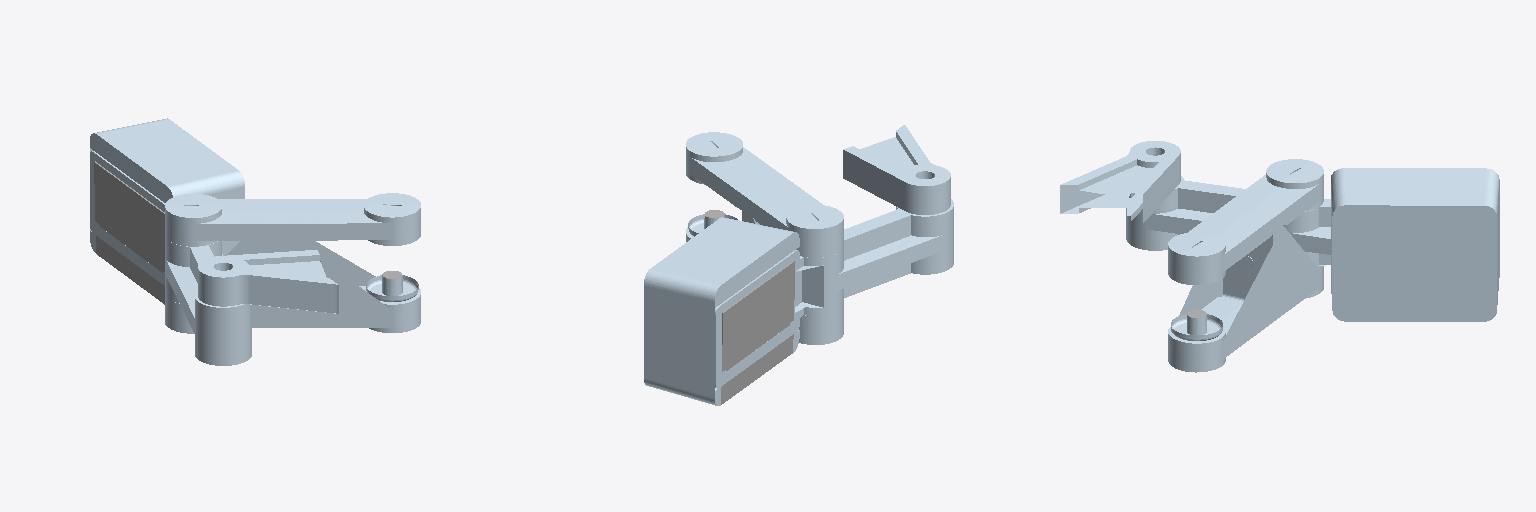
Rendered from gripper_left_arm.obj.
The picture shows the model from 3 angles: view 1: azimuth 30°, elevation 25°; view 2: azimuth 150°, elevation 25°; view 3: azimuth 270°, elevation 25°; orthographic projection.
Visible parts, largest first — view 1: Mesh1 Gripper_left_arm1 Model; view 2: Mesh1 Gripper_left_arm1 Model; view 3: Mesh1 Gripper_left_arm1 Model.
Boxes of the visible parts, box(x1,y1,x2,y2) form: Mesh1 Gripper_left_arm1 Model: box(90, 118, 420, 365); Mesh1 Gripper_left_arm1 Model: box(644, 125, 953, 405); Mesh1 Gripper_left_arm1 Model: box(1060, 141, 1499, 372).
Size of the model in its own units: 0.047 by 0.0225 by 0.0746.